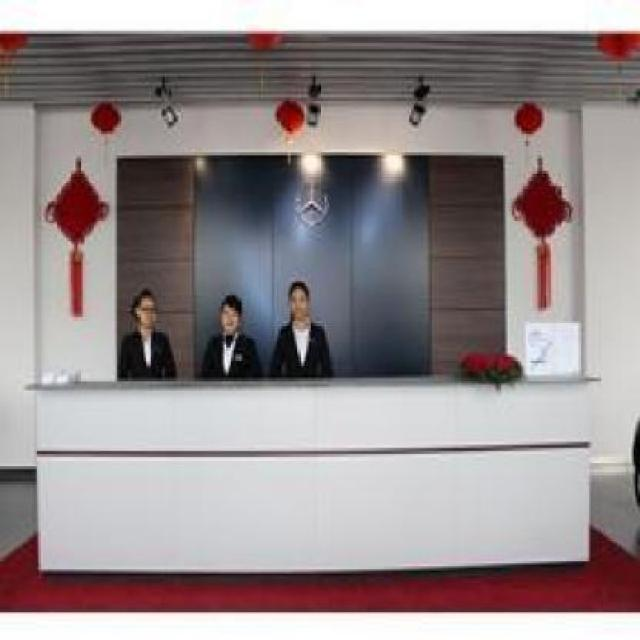frontdesk: (17, 351, 608, 576)
